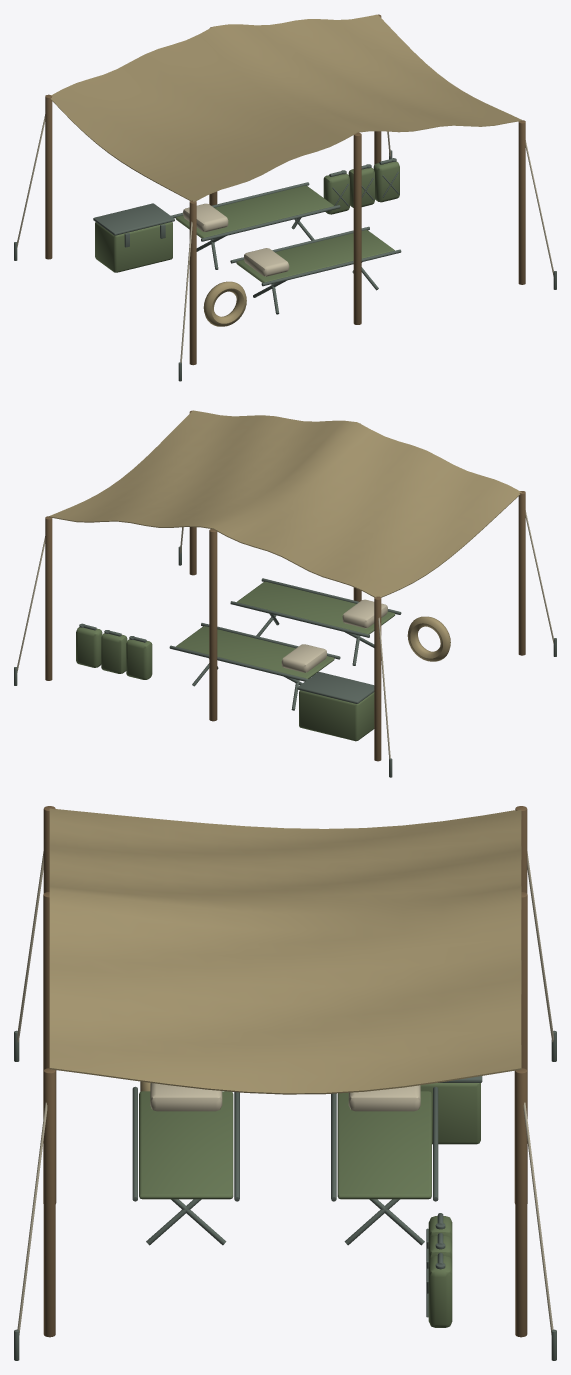
File: JungleBivouac08.fbx
3 renders of one model, top to bottom at view 1: azimuth 30°, elevation 25°; view 2: azimuth 150°, elevation 25°; view 3: azimuth 270°, elevation 25°, orthographic. The views are drawn at different scales.
Visible parts, largest first — view 1: JungleBivouac08; view 2: JungleBivouac08; view 3: JungleBivouac08.
Boxes of the visible parts, x1=… form: JungleBivouac08: x1=14, y1=14, x2=556, y2=381; JungleBivouac08: x1=14, y1=410, x2=556, y2=777; JungleBivouac08: x1=14, y1=806, x2=556, y2=1360.
Bounding box in the file's own units: 574 × 438 × 284.
